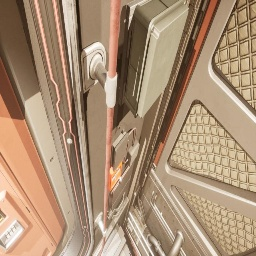FireAlarm ,: (109, 160, 123, 192)
